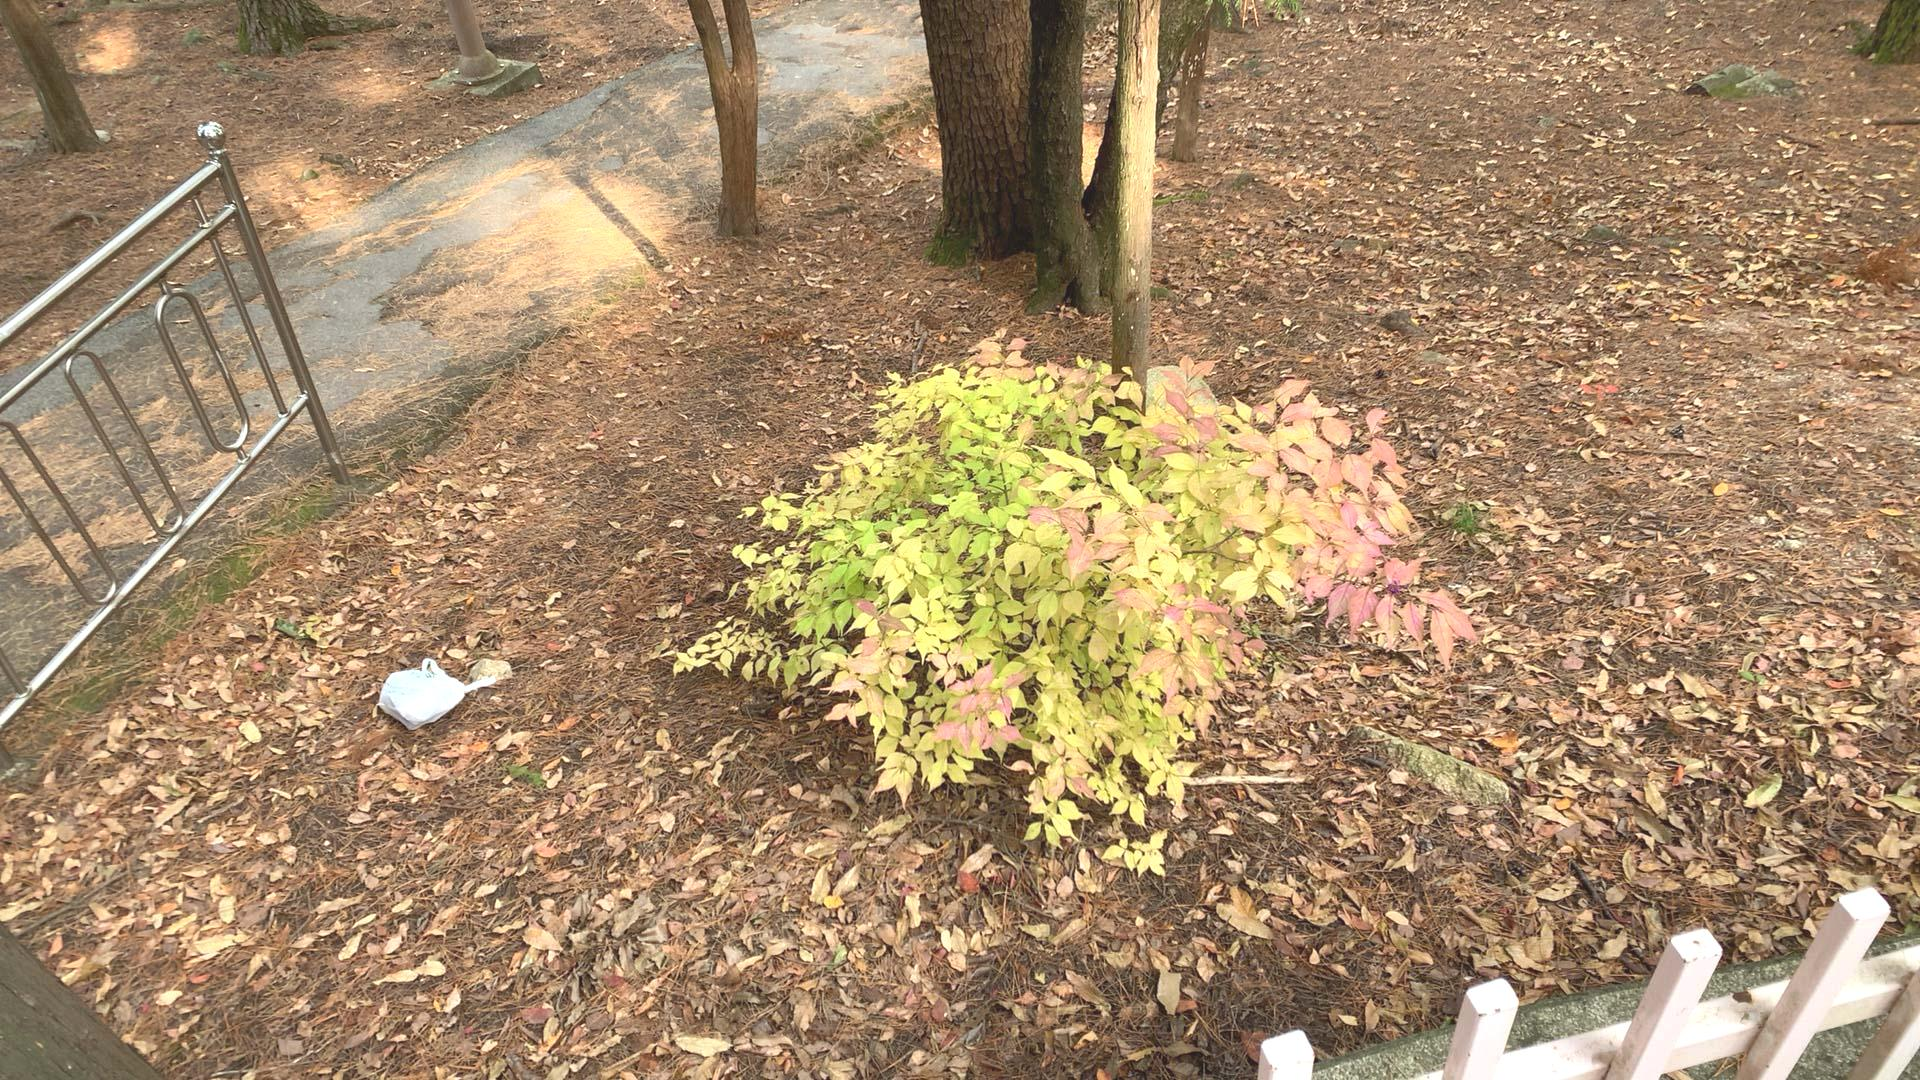white_bag: (367, 655, 495, 732)
